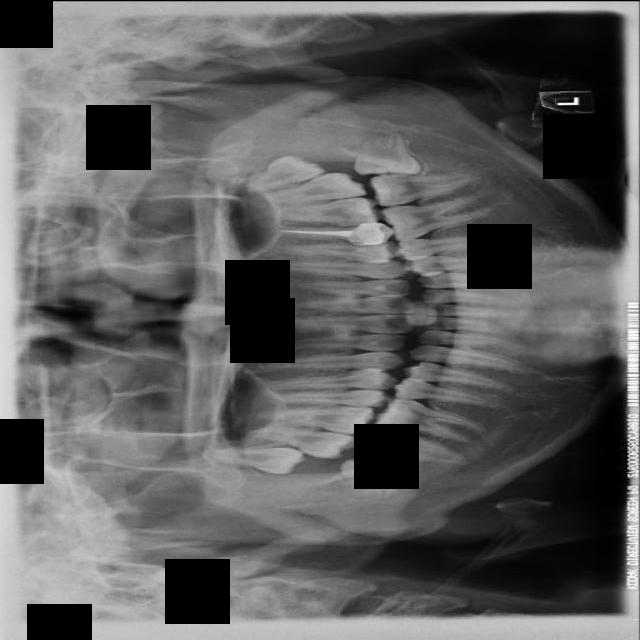3M ESPE Implant: (207, 446, 305, 473)
52: (343, 221, 392, 245)
73: (278, 224, 352, 244), (586, 21, 604, 29)
BioHorizons Implant: (259, 169, 365, 206)
BioLife Implant: (243, 148, 325, 193)
Biomet 3i Implant: (353, 131, 422, 175)
Blue Sky Bio Implant: (368, 168, 480, 206)
Caries: (244, 426, 358, 460)
Implant: (358, 427, 462, 464)
Keystone Dental Implant: (341, 458, 410, 500)
